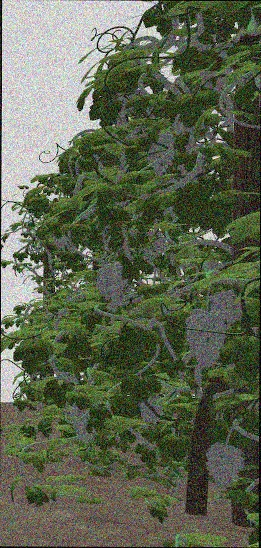grape: (186, 307, 226, 367), (205, 441, 246, 491), (146, 131, 177, 175), (95, 262, 128, 302), (209, 290, 243, 323), (73, 403, 96, 445), (139, 399, 164, 423)
